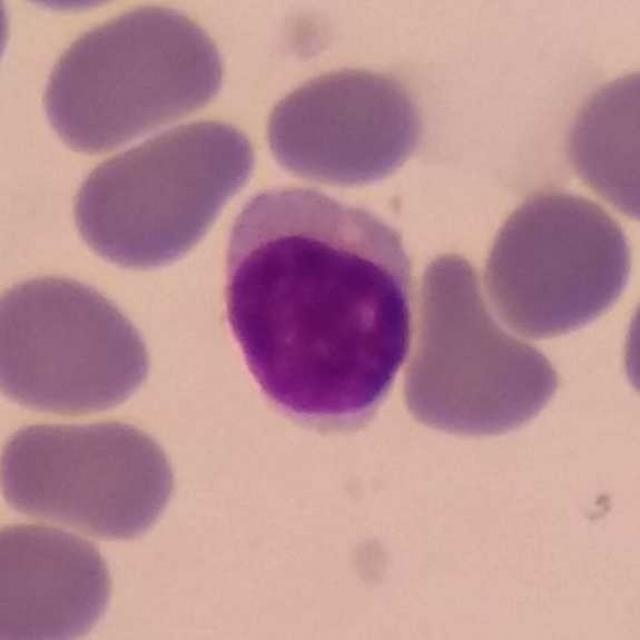Lymphocyte: (214, 196, 424, 442)
RBC: (394, 245, 568, 446), (65, 111, 262, 276), (35, 0, 232, 157), (1, 406, 185, 546), (477, 182, 638, 342), (1, 266, 159, 422), (257, 58, 433, 191), (0, 515, 120, 639), (557, 59, 640, 227), (614, 255, 640, 427), (1, 0, 167, 16), (0, 0, 18, 97)
